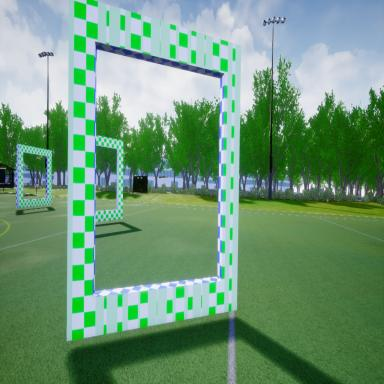gate: (63, 0, 242, 356), (17, 138, 54, 216)
